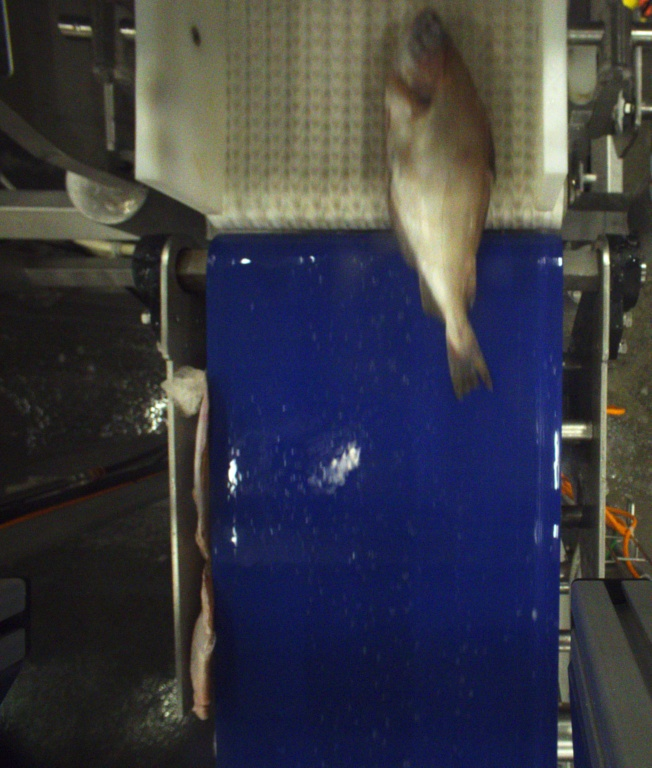BIB: (387, 2, 504, 398)
